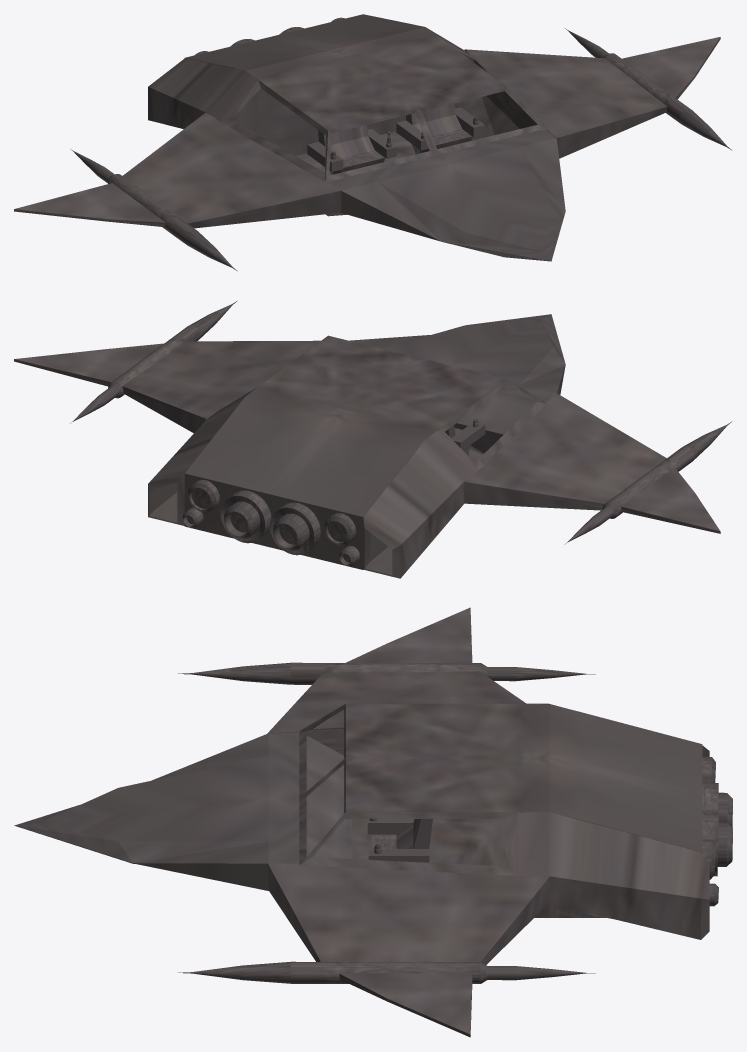
Rendered from ship2.obj.
3 renders of one model, top to bottom at view 1: azimuth 30°, elevation 25°; view 2: azimuth 150°, elevation 25°; view 3: azimuth 270°, elevation 25°, orthographic. The views are drawn at different scales.
Parts seen in each view (by area): view 1: Cube; view 2: Cube; view 3: Cube.
Boxes of the visible parts, x1=… form: Cube: x1=14, y1=14, x2=732, y2=271; Cube: x1=14, y1=300, x2=732, y2=578; Cube: x1=14, y1=607, x2=732, y2=1037.
Size of the model in its own units: 3.41 by 0.3945 by 2.43.
Materials: 1 (1 with a texture image).
